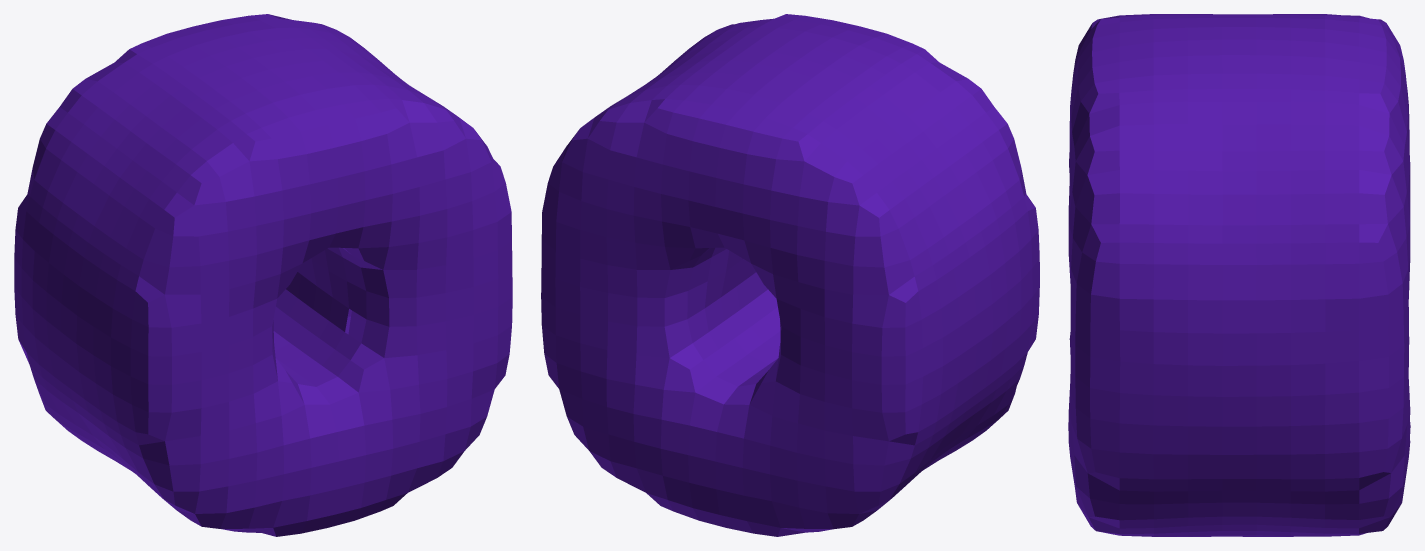
Rendered from oyo_o.glb.
3 renders of one model, left to right at view 1: azimuth 30°, elevation 25°; view 2: azimuth 150°, elevation 25°; view 3: azimuth 270°, elevation 25°, orthographic. The views are drawn at different scales.
Parts seen in each view (by area): view 1: Text.001; view 2: Text.001; view 3: Text.001.
Part boxes in pixels (x1,y1,x2,y2): Text.001: (14, 14, 512, 536); Text.001: (541, 14, 1039, 536); Text.001: (1068, 14, 1410, 536).
Size of the model in its own units: 1.31 by 1.36 by 0.8988.
